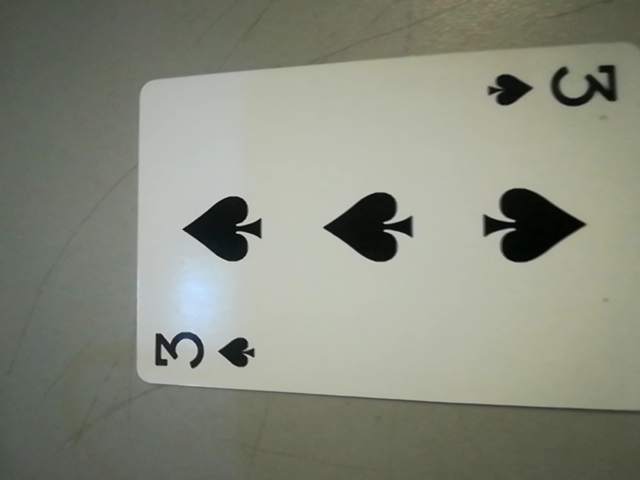ht 3: (472, 57, 636, 121)
